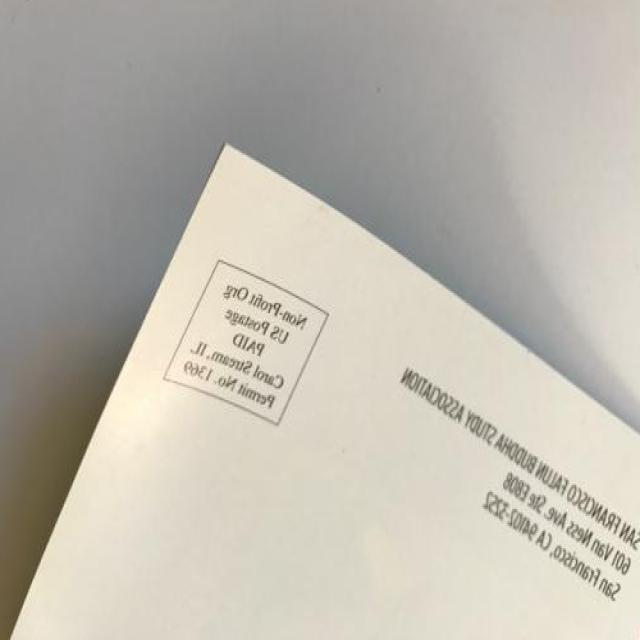kertas: (0, 137, 640, 640)
